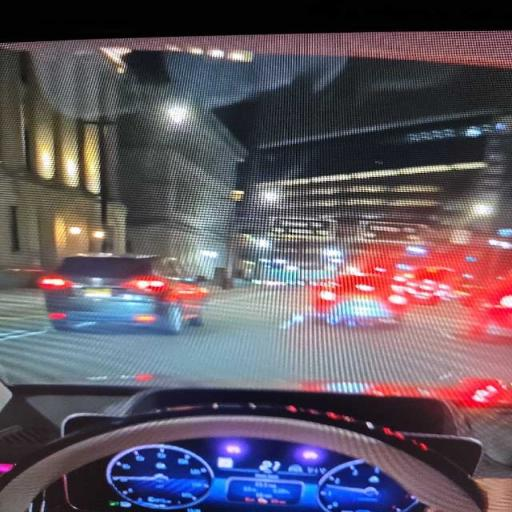car: (39, 255, 208, 333), (312, 275, 408, 325), (466, 279, 511, 339), (394, 267, 455, 305)
lane: (0, 287, 511, 387)
